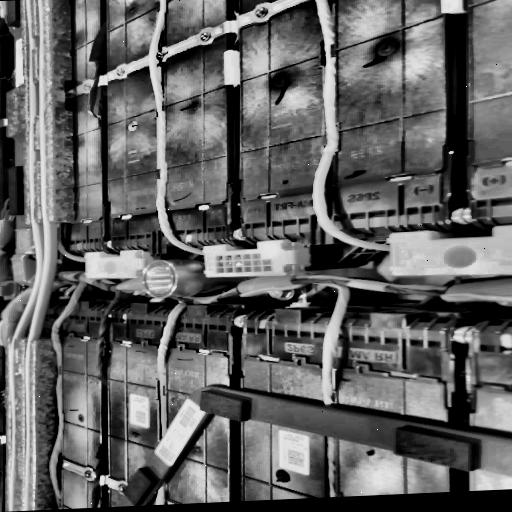busbar: (112, 382, 512, 507)
high_volt_cable: (183, 271, 353, 498), (2, 0, 58, 512), (303, 0, 394, 258), (144, 0, 206, 257), (147, 298, 188, 505)
